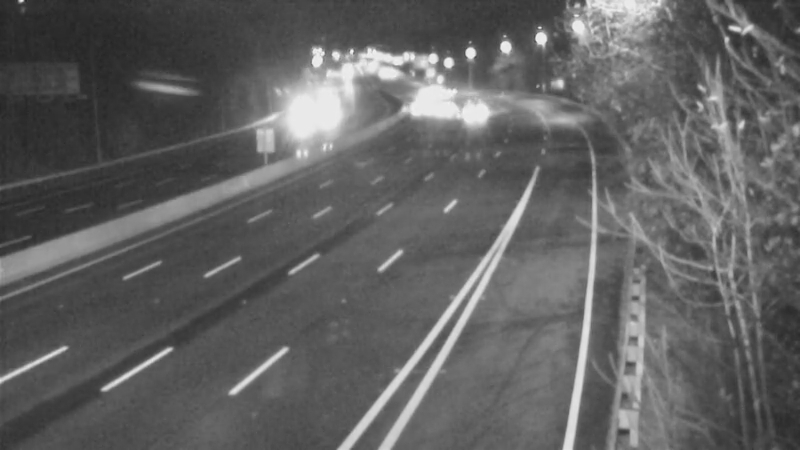vehicle: (423, 82, 473, 132), (397, 86, 447, 136), (451, 89, 501, 139)
